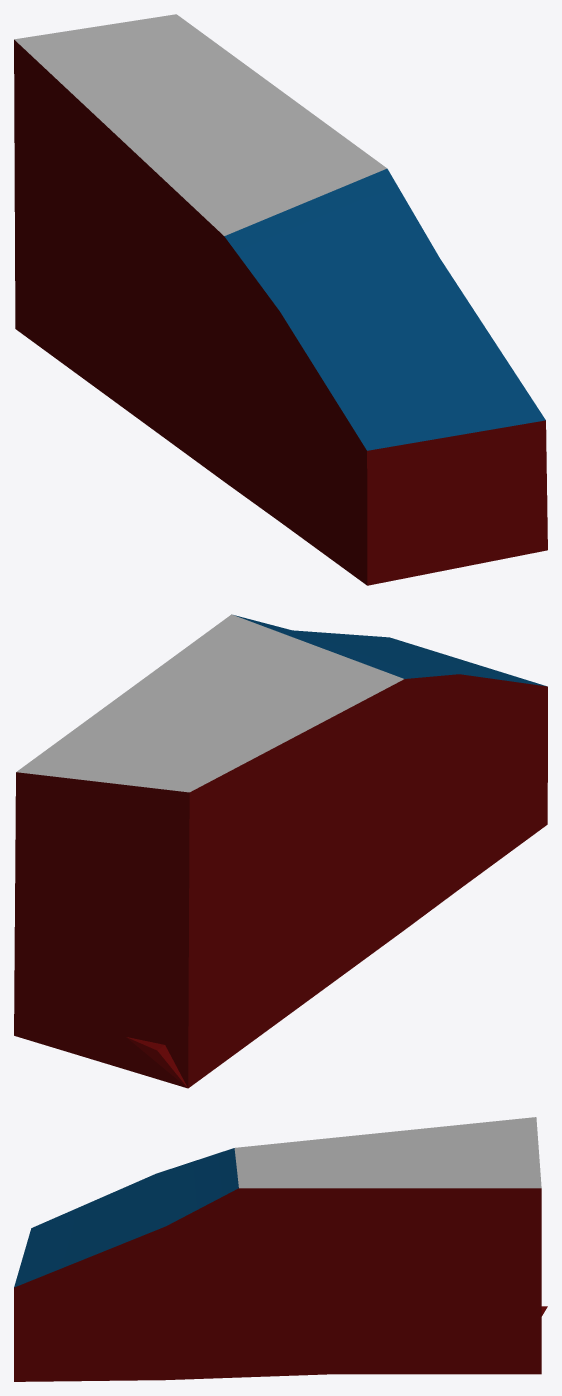
The model's file is PlayerFoot.fbx.
3 renders of one model, top to bottom at view 1: azimuth 30°, elevation 25°; view 2: azimuth 150°, elevation 25°; view 3: azimuth 270°, elevation 25°, orthographic. The views are drawn at different scales.
Visible parts, largest first — view 1: polySurface15; view 2: polySurface15; view 3: polySurface15.
Boxes of the visible parts, x1,y1,x2,y2 form: polySurface15: (14, 14, 547, 585); polySurface15: (14, 614, 547, 1088); polySurface15: (14, 1117, 547, 1381).
Bounding box in the file's own units: 0.4712 × 0.7677 × 1.78.
